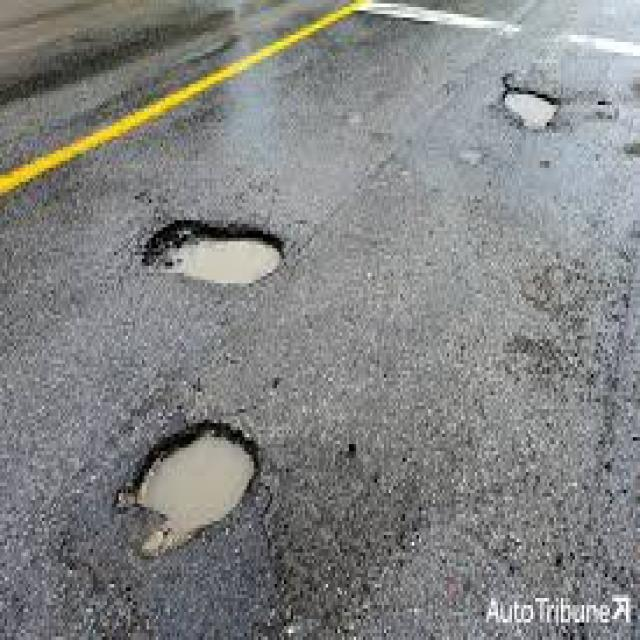pothole: (114, 412, 274, 568), (134, 211, 306, 312), (484, 72, 586, 158)
